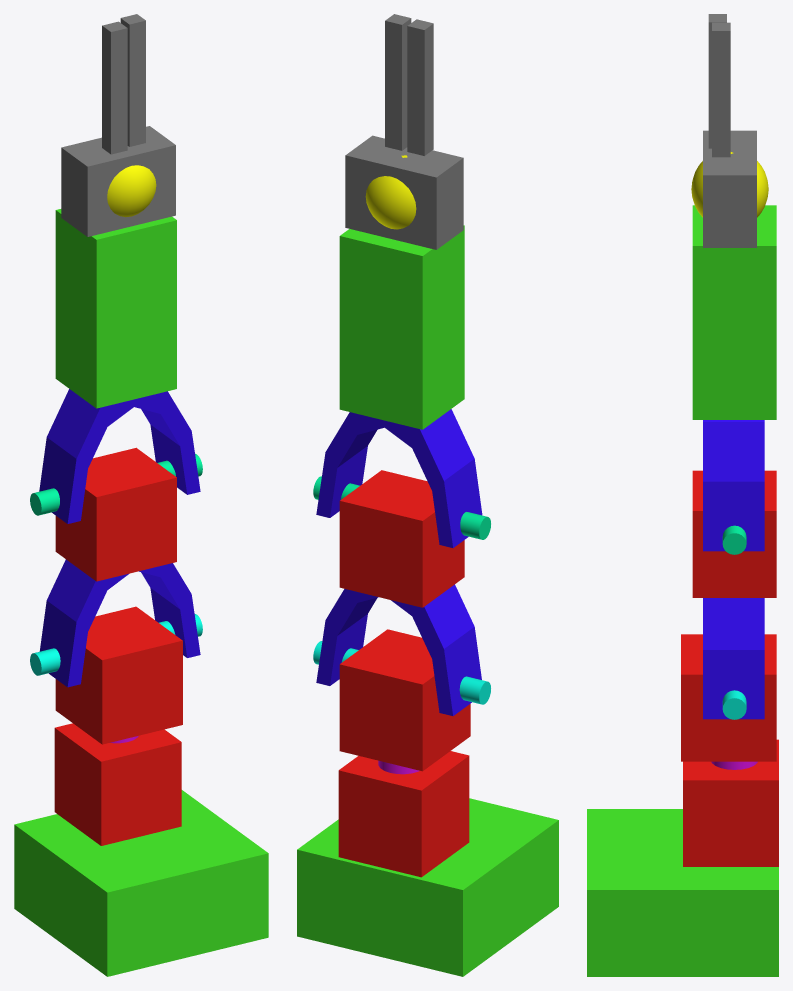
File: DynamixRobot.fbx
3 renders of one model, left to right at view 1: azimuth 30°, elevation 25°; view 2: azimuth 150°, elevation 25°; view 3: azimuth 270°, elevation 25°, orthographic. The views are drawn at different scales.
Visible parts, largest first — view 1: Support, Cube_3, Cube, Cube_1, Cube_2, Arch_1, Arch, gripperbase, rightfinger, leftfinger, Sphere_Tip, m3 (+1 smaller); view 2: Support, Cube_3, Cube, Cube_1, Cube_2, Arch_1, gripperbase, Arch, rightfinger, leftfinger, Sphere_Tip, m3 (+1 smaller); view 3: Support, Cube_3, Cube, Arch_1, Cube_1, Arch, Cube_2, gripperbase, leftfinger, Sphere_Tip, rightfinger, m2 (+1 smaller).
Part boxes in pixels (x1,y1,x2,y2): Support: [14, 790, 268, 976]; Cube_3: [55, 209, 176, 408]; Cube: [54, 723, 181, 845]; Cube_1: [55, 606, 182, 744]; Cube_2: [55, 447, 176, 581]; Arch_1: [39, 389, 200, 523]; Arch: [39, 559, 200, 687]; gripperbase: [61, 126, 175, 236]; rightfinger: [102, 21, 127, 154]; leftfinger: [120, 14, 145, 146]; Sphere_Tip: [107, 165, 156, 217]; m3: [30, 453, 202, 515]; Support: [297, 798, 558, 976]; Cube_3: [339, 225, 464, 429]; Cube: [338, 751, 469, 877]; Cube_1: [339, 629, 470, 771]; Cube_2: [339, 470, 464, 607]; Arch_1: [316, 409, 482, 547]; gripperbase: [345, 135, 463, 249]; Arch: [316, 584, 481, 715]; rightfinger: [407, 19, 433, 155]; leftfinger: [385, 14, 411, 150]; Sphere_Tip: [365, 155, 416, 229]; m3: [313, 476, 490, 539]; Support: [587, 809, 778, 976]; Cube_3: [692, 205, 776, 419]; Cube: [683, 739, 778, 866]; Arch_1: [703, 420, 764, 551]; Cube_1: [681, 634, 776, 761]; Arch: [703, 598, 764, 719]; Cube_2: [692, 470, 776, 597]; gripperbase: [703, 130, 756, 247]; leftfinger: [712, 22, 730, 157]; Sphere_Tip: [691, 152, 768, 217]; rightfinger: [708, 14, 726, 148]; m2: [722, 690, 746, 719].
Size of the model in its own units: 200 by 1052 by 200.
